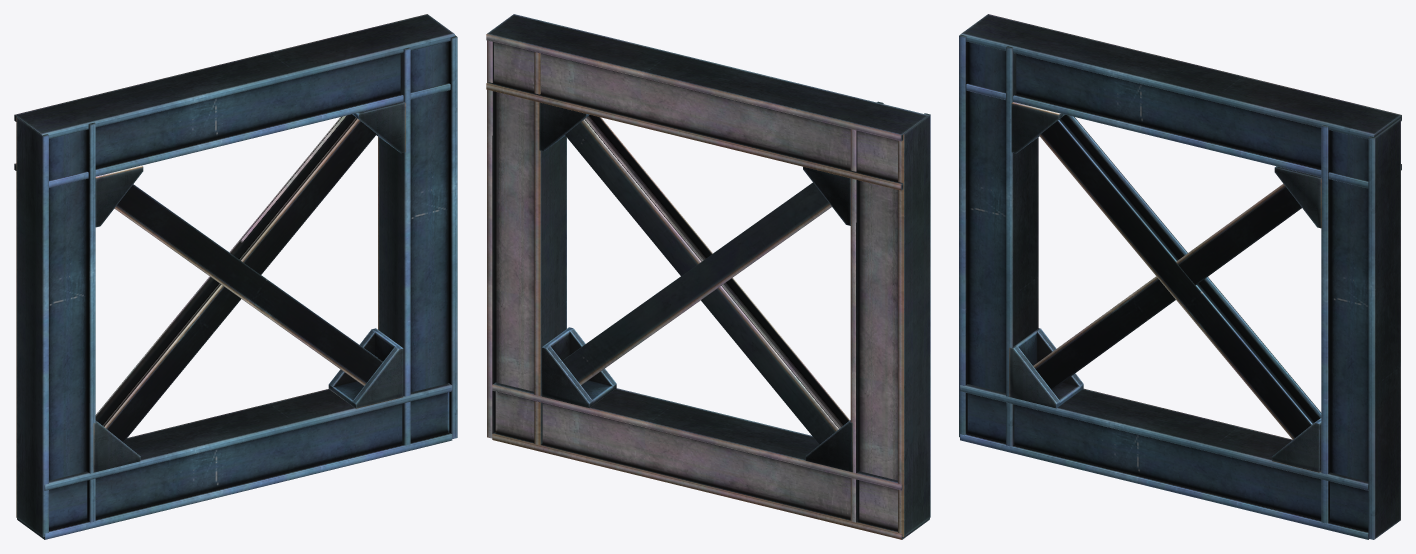
Rendered from BeamQuadCrossed.FBX.
3 renders of one model, left to right at view 1: azimuth 30°, elevation 25°; view 2: azimuth 150°, elevation 25°; view 3: azimuth 330°, elevation 25°, orthographic.
Visible parts, largest first — view 1: Beam_Quad_Crossed; view 2: Beam_Quad_Crossed; view 3: Beam_Quad_Crossed.
Part boxes in pixels (left/top/right/bottom): Beam_Quad_Crossed: left=14, top=14, right=457, bottom=539; Beam_Quad_Crossed: left=486, top=14, right=930, bottom=539; Beam_Quad_Crossed: left=959, top=14, right=1401, bottom=539.
Bounding box in the file's own units: 1040 × 969 × 128.
Materials: 1 (1 with a texture image).
